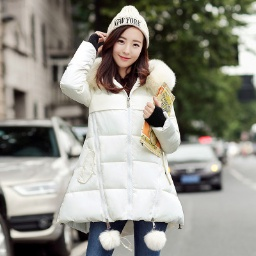face: (99, 24, 152, 82)
